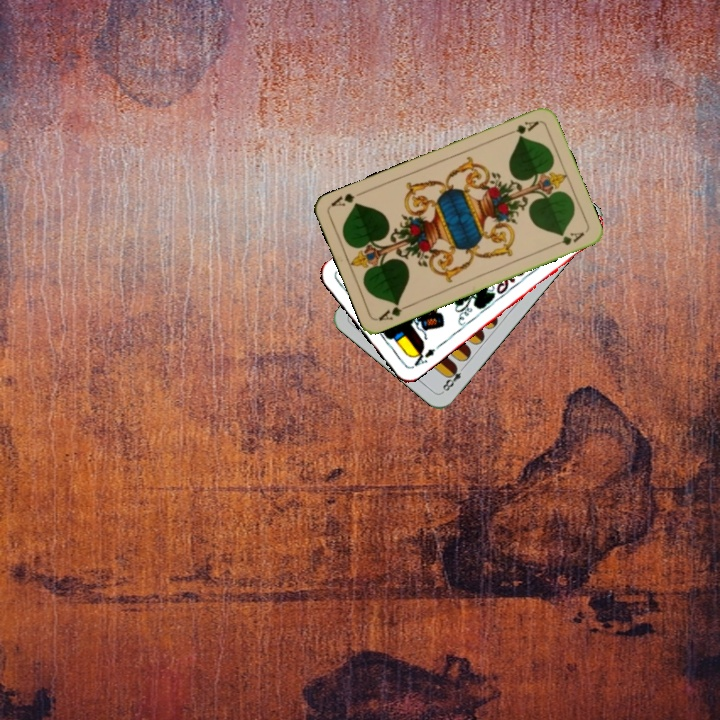E8: (438, 361, 469, 395)
EA: (407, 344, 438, 371)
GA: (374, 299, 413, 324), (503, 117, 542, 139)
